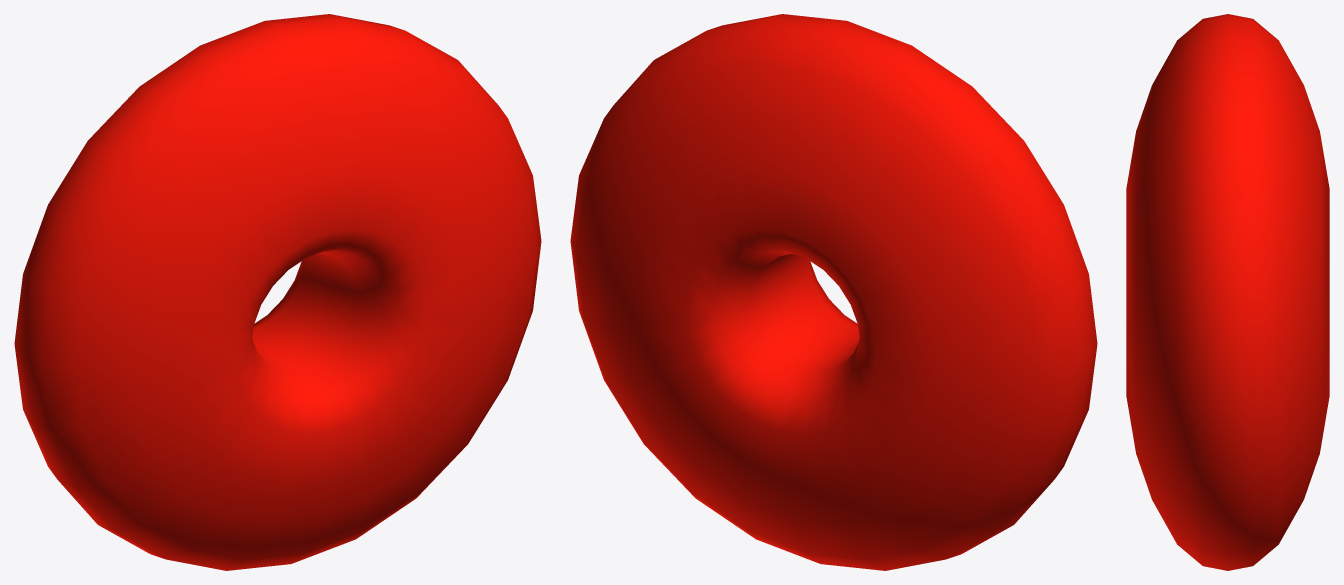
File: jewel1_Agate.fbx
3 views of the same model, side by side, from view 1: azimuth 30°, elevation 25°; view 2: azimuth 150°, elevation 25°; view 3: azimuth 270°, elevation 25° (orthographic). The views are drawn at different scales.
Visible parts, largest first — view 1: jewel1_Agate; view 2: jewel1_Agate; view 3: jewel1_Agate.
Boxes of the visible parts, left/top/right/bottom form: jewel1_Agate: left=14, top=14, right=541, bottom=570; jewel1_Agate: left=570, top=14, right=1097, bottom=570; jewel1_Agate: left=1126, top=14, right=1329, bottom=570.
Size of the model in its own units: 0.6238 by 0.6238 by 0.2265.
